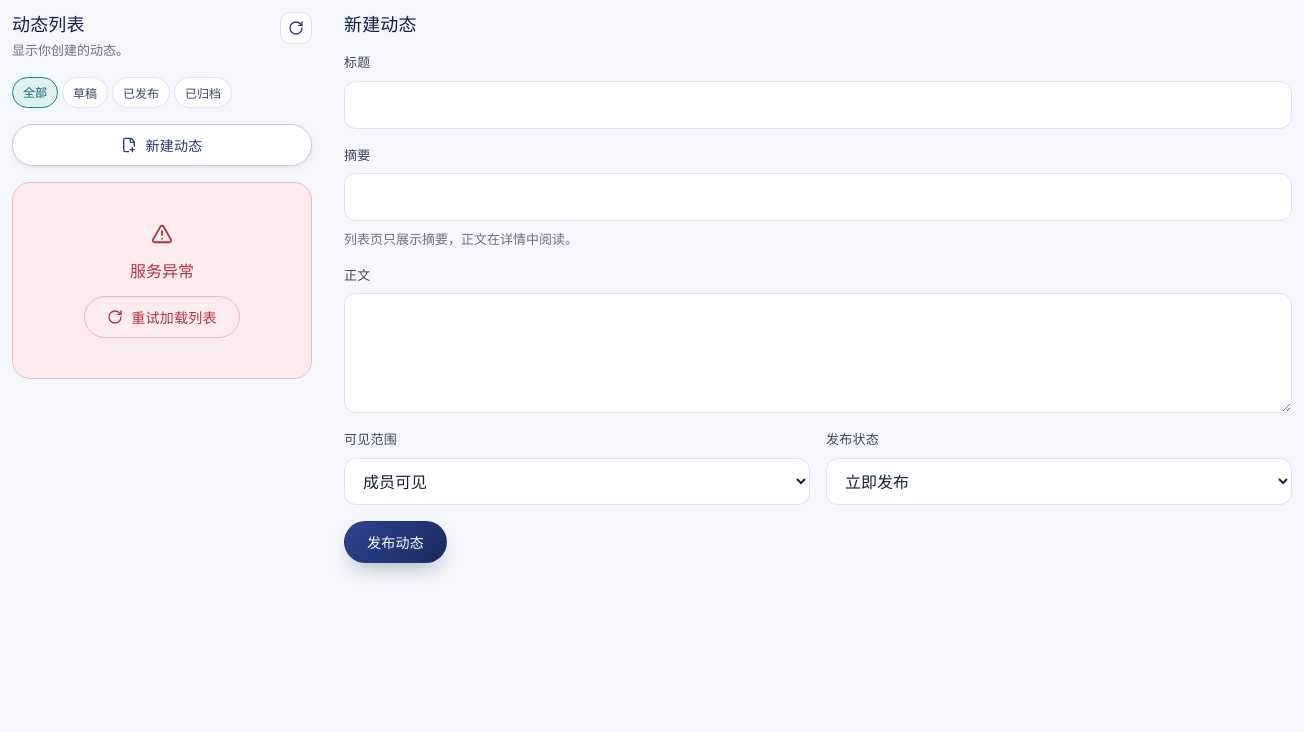
Scenario: AdminNews manage workspace › shows an empty state when nothing is manageable and retries after a list failure
Click the button "重试加载列表".
click(162, 318)  # box left=84, top=296, right=240, bottom=338
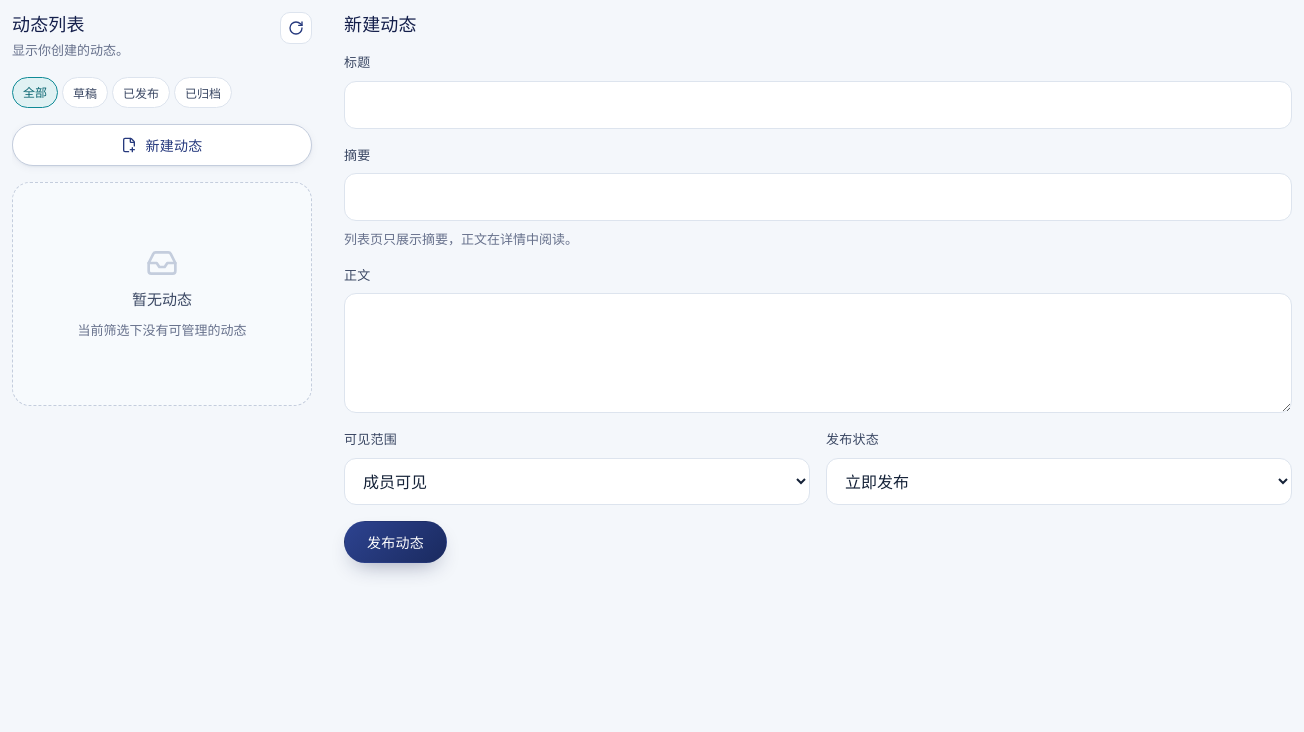
Check: the text "暂无动态" is shown, box left=132, top=287, right=192, bottom=311
